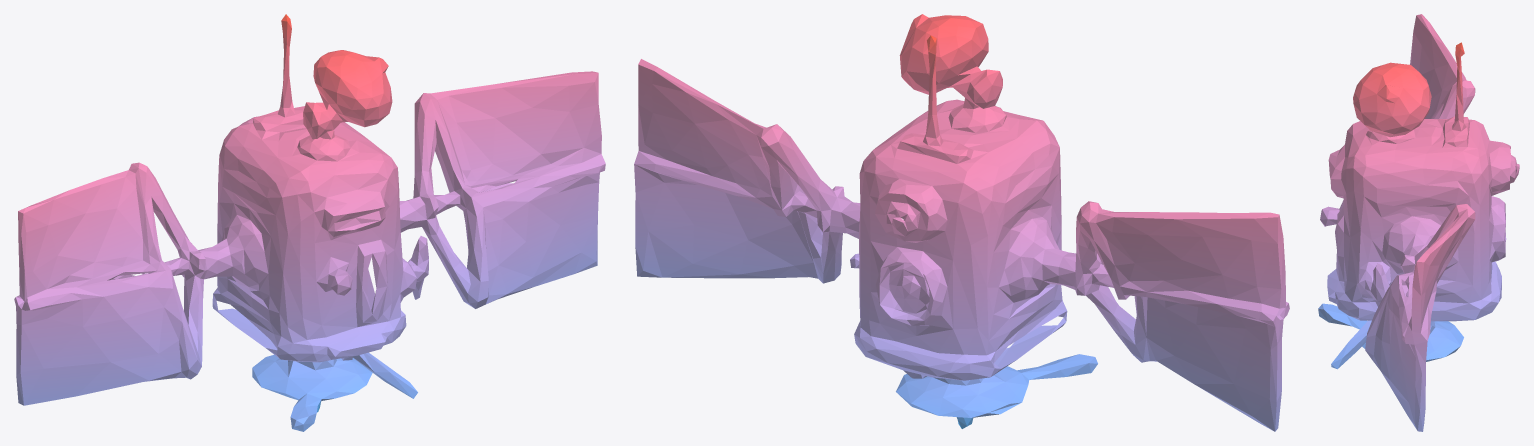
File: 146_cyb_laser_gradient_fish_scales_2947_2026_10_03_ca9e71.glb
The picture shows the model from 3 angles, left to right: view 1: azimuth 30°, elevation 25°; view 2: azimuth 150°, elevation 25°; view 3: azimuth 270°, elevation 25°; orthographic projection. The views are drawn at different scales.
Parts seen in each view (by area): view 1: geometry_0; view 2: geometry_0; view 3: geometry_0.
Boxes of the visible parts, <box> form: geometry_0: <box>14,14,605,431</box>; geometry_0: <box>634,14,1289,431</box>; geometry_0: <box>1318,14,1519,431</box>.
Size of the model in its own units: 1 by 0.6217 by 0.3447.
